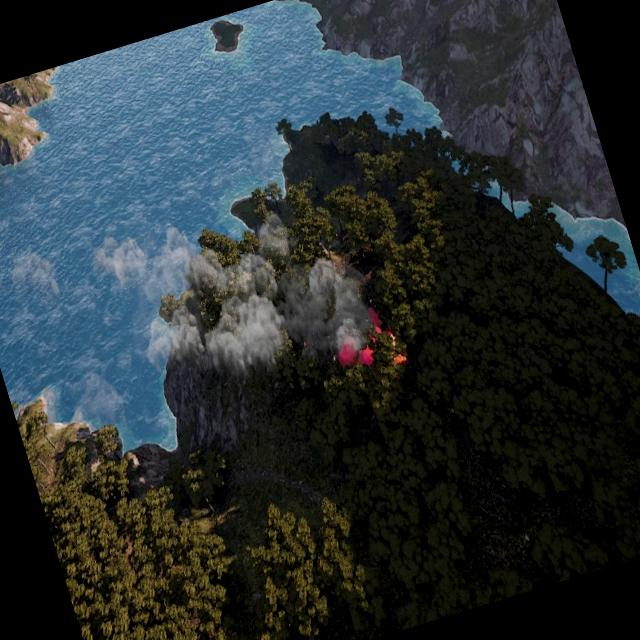fire: (326, 298, 410, 388)
smoke: (82, 169, 389, 434)
